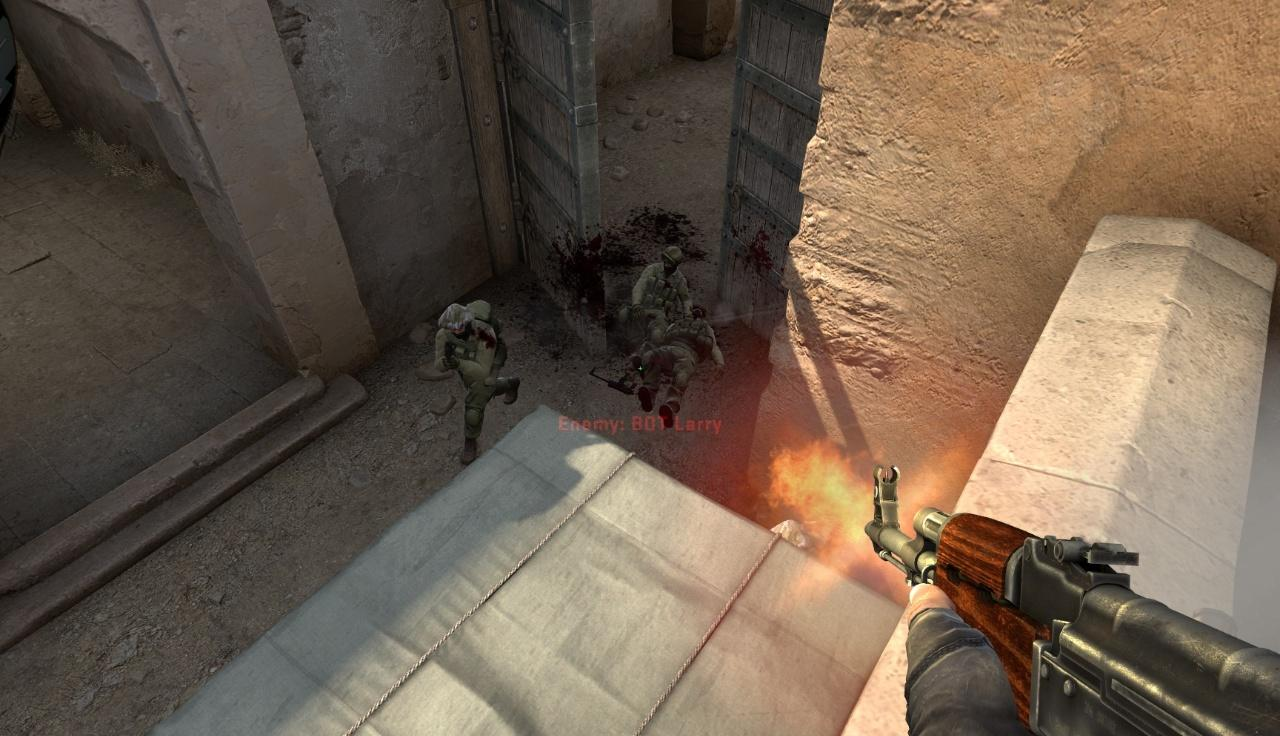ct: (435, 301, 519, 434)
cthead: (442, 306, 472, 339)
rifle: (865, 469, 1280, 736)
